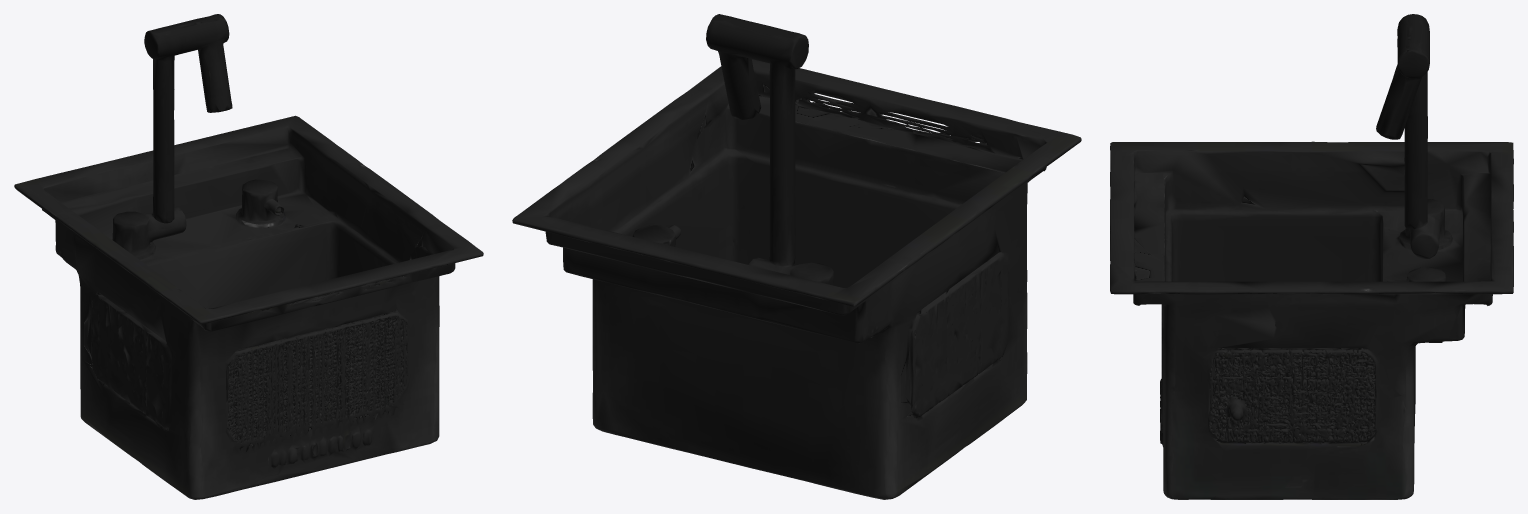
File: black_sink_w_faucet.glb
3 renders of one model, left to right at view 1: azimuth 30°, elevation 25°; view 2: azimuth 150°, elevation 25°; view 3: azimuth 270°, elevation 25°, orthographic. The views are drawn at different scales.
Visible parts, largest first — view 1: geometry_0; view 2: geometry_0; view 3: geometry_0.
Boxes of the visible parts, x1,y1,x2,y2 form: geometry_0: (14, 14, 483, 499); geometry_0: (512, 14, 1081, 499); geometry_0: (1110, 14, 1513, 499).
Size of the model in its own units: 0.8136 by 0.9997 by 0.9243.
Materials: 1 (1 with a texture image).
